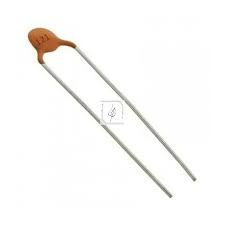ceramic capacitor: (22, 11, 108, 73)
